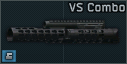AK Vezhlivyy Strelok VS-24 + VS-33c handguard & gas block combo: (0, 0, 127, 64)
